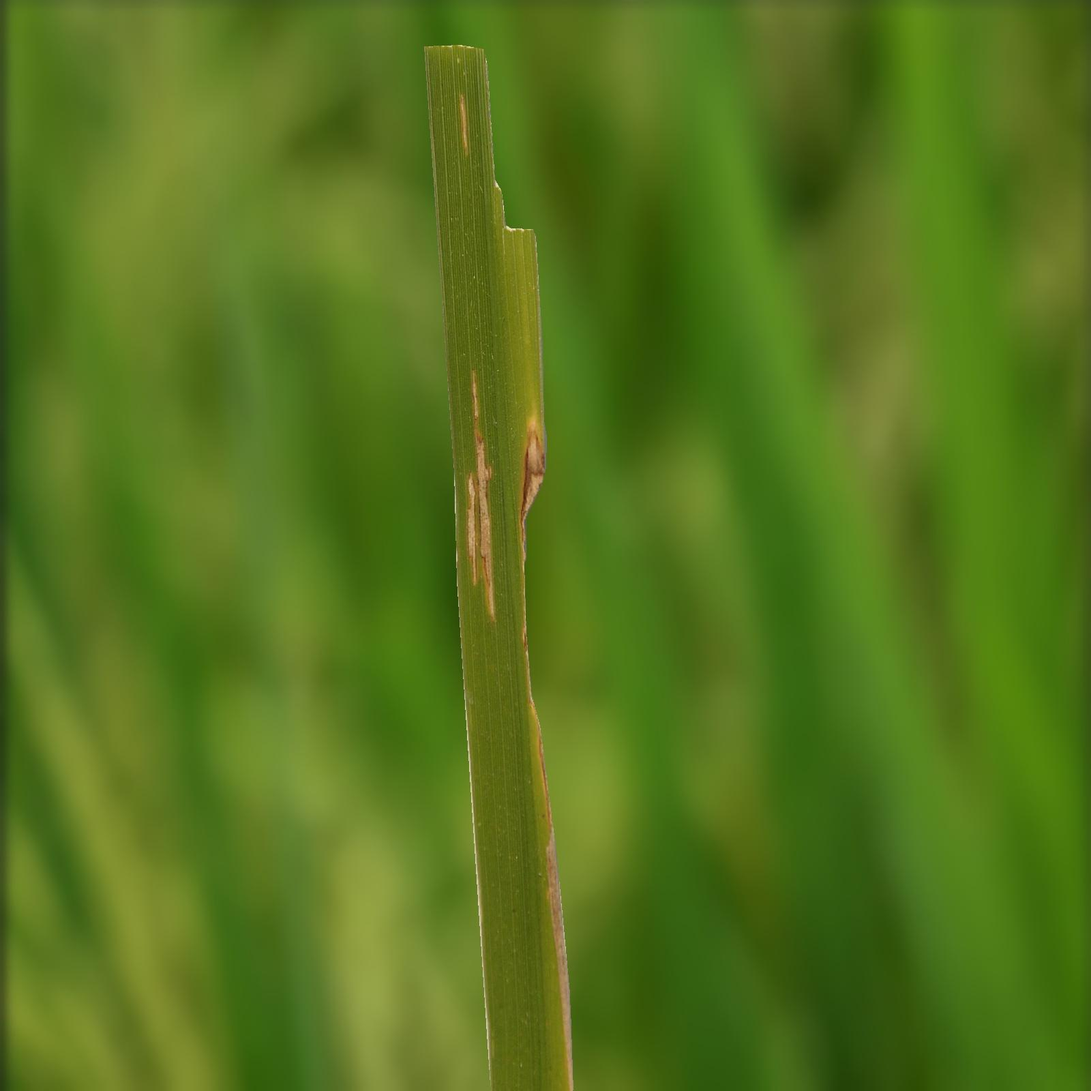BLS: (539, 735, 573, 1090), (466, 370, 497, 624), (458, 95, 470, 152)
LEAF: (424, 45, 572, 1090)
